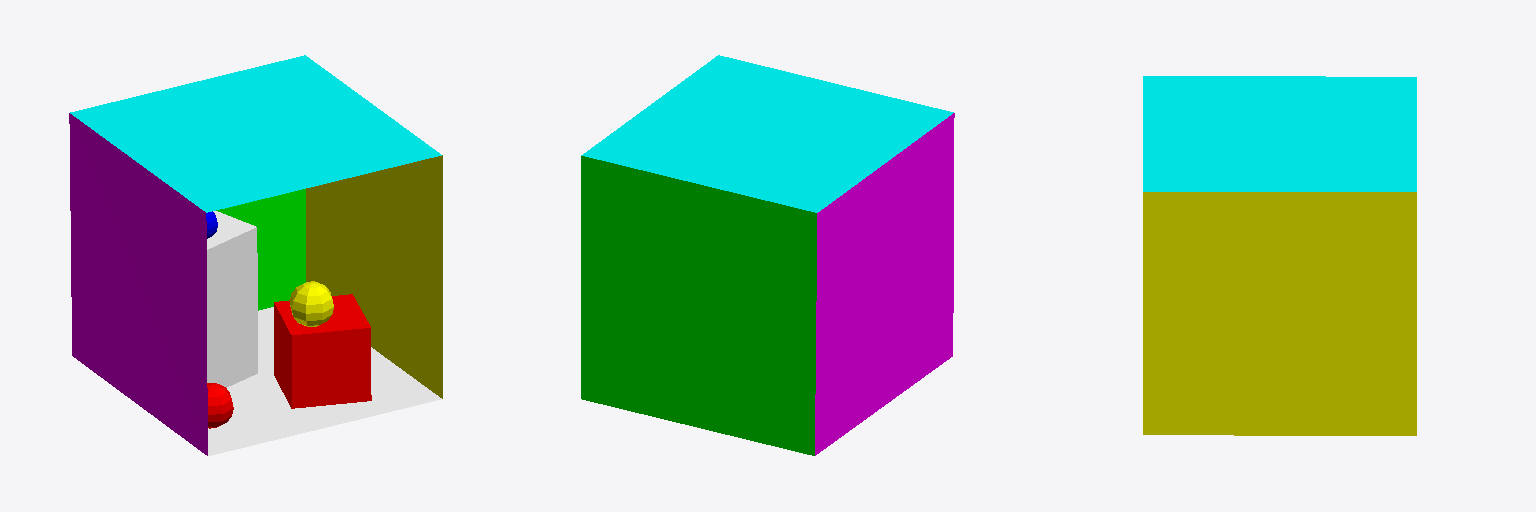
The model's file is loveBox.obj.
3 renders of one model, left to right at view 1: azimuth 30°, elevation 25°; view 2: azimuth 150°, elevation 25°; view 3: azimuth 270°, elevation 25°, orthographic.
Parts seen in each view (by area): view 1: left_wall, ceiling, right_wall, floor, short_box, tall_box, back_wall, sphere1, sphere2; view 2: back_wall, left_wall, ceiling; view 3: right_wall, ceiling.
Part boxes in pixels (x1,y1,x2,y2): left_wall: (69, 113, 207, 455); ceiling: (70, 55, 441, 212); right_wall: (306, 155, 442, 398); floor: (208, 307, 441, 455); short_box: (274, 294, 371, 408); tall_box: (207, 211, 257, 387); back_wall: (216, 189, 305, 310); sphere1: (289, 281, 333, 326); sphere2: (207, 383, 233, 428); back_wall: (581, 156, 816, 455); left_wall: (815, 113, 954, 455); ceiling: (581, 55, 953, 212); right_wall: (1143, 192, 1416, 435); ceiling: (1143, 76, 1416, 191).
Size of the model in its own units: 5.56 by 5.49 by 5.6.